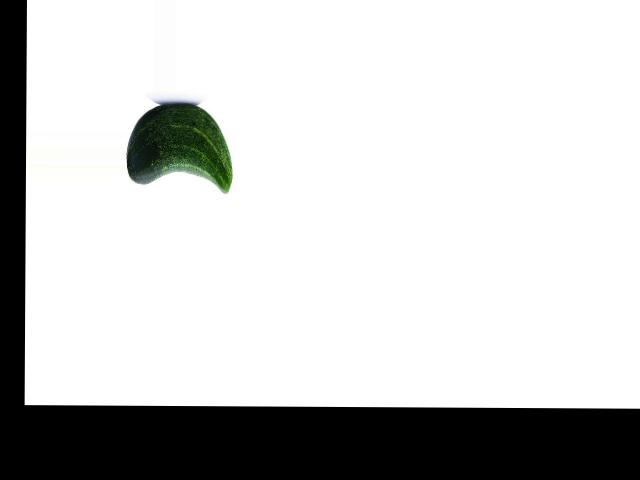cucumber: (126, 103, 233, 192)
